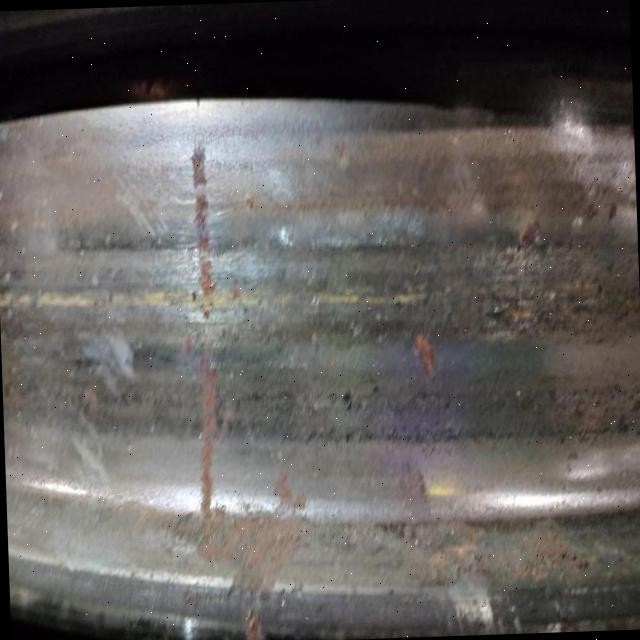Contact_Fatigue_Cracks: (1, 277, 427, 330)
Rollerpile: (468, 214, 595, 338)
